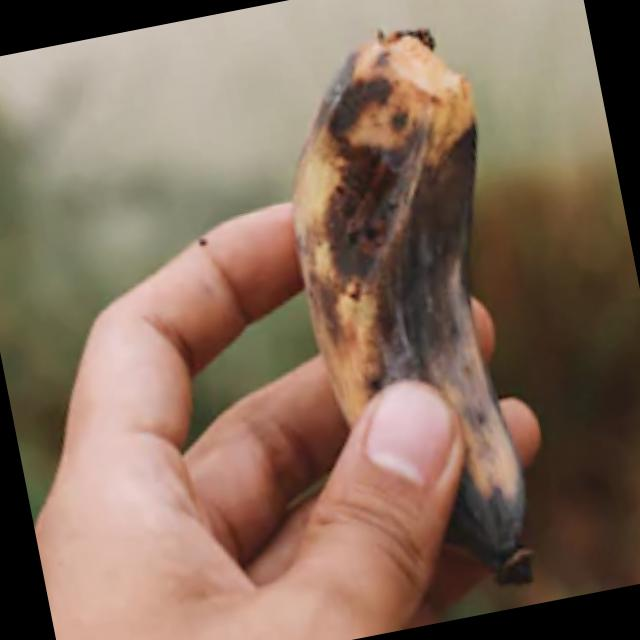rotten-banana: (257, 12, 604, 568)
